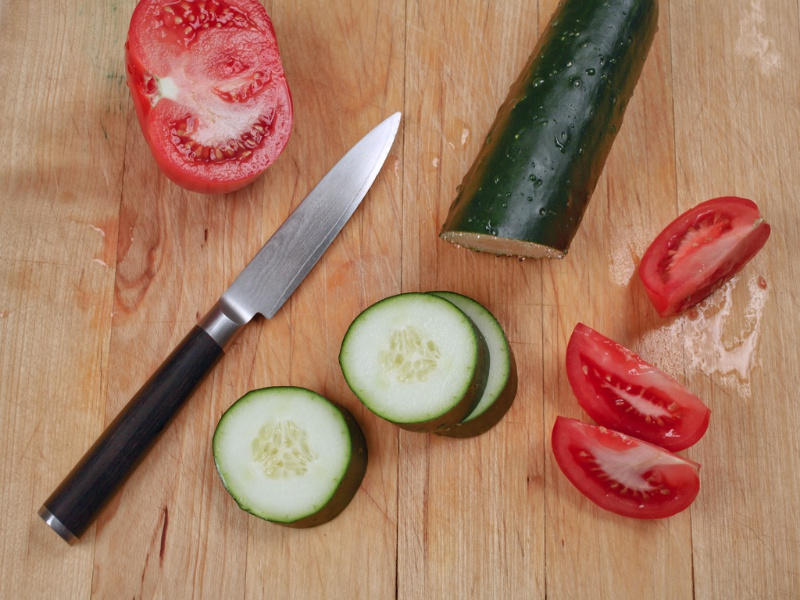knife: (34, 110, 406, 550)
